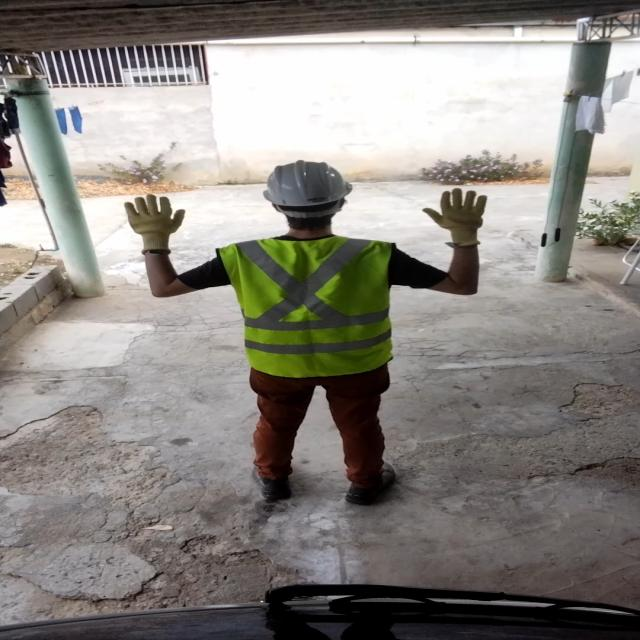glove: (119, 193, 194, 257), (421, 188, 496, 250)
helmet: (254, 158, 362, 218)
pants: (243, 362, 391, 481)
vest: (231, 234, 402, 374)
